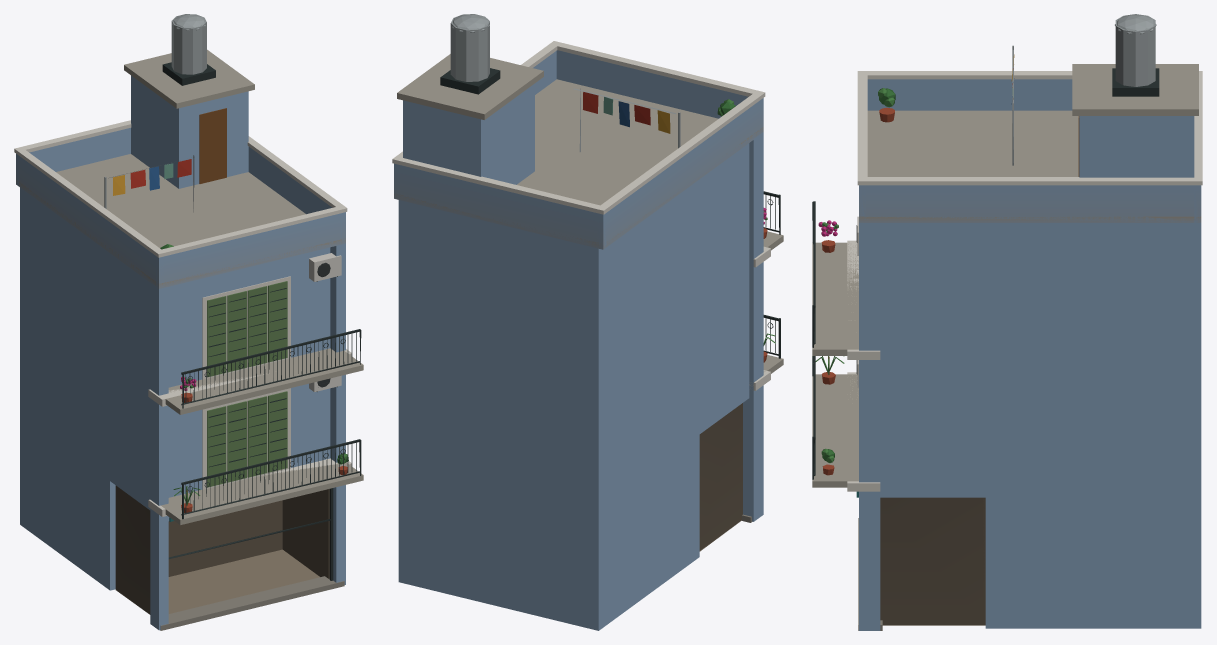
Rendered from nha_F.glb.
3 renders of one model, left to right at view 1: azimuth 30°, elevation 25°; view 2: azimuth 150°, elevation 25°; view 3: azimuth 270°, elevation 25°, orthographic. The views are drawn at different scales.
Parts seen in each view (by area): view 1: nha_F; view 2: nha_F; view 3: nha_F.
Part boxes in pixels (<box>): nha_F: <box>14,14,363,630</box>; nha_F: <box>392,14,783,630</box>; nha_F: <box>812,14,1202,630</box>.
Bounding box in the file's own units: 5.6 × 13.88 × 8.33.
